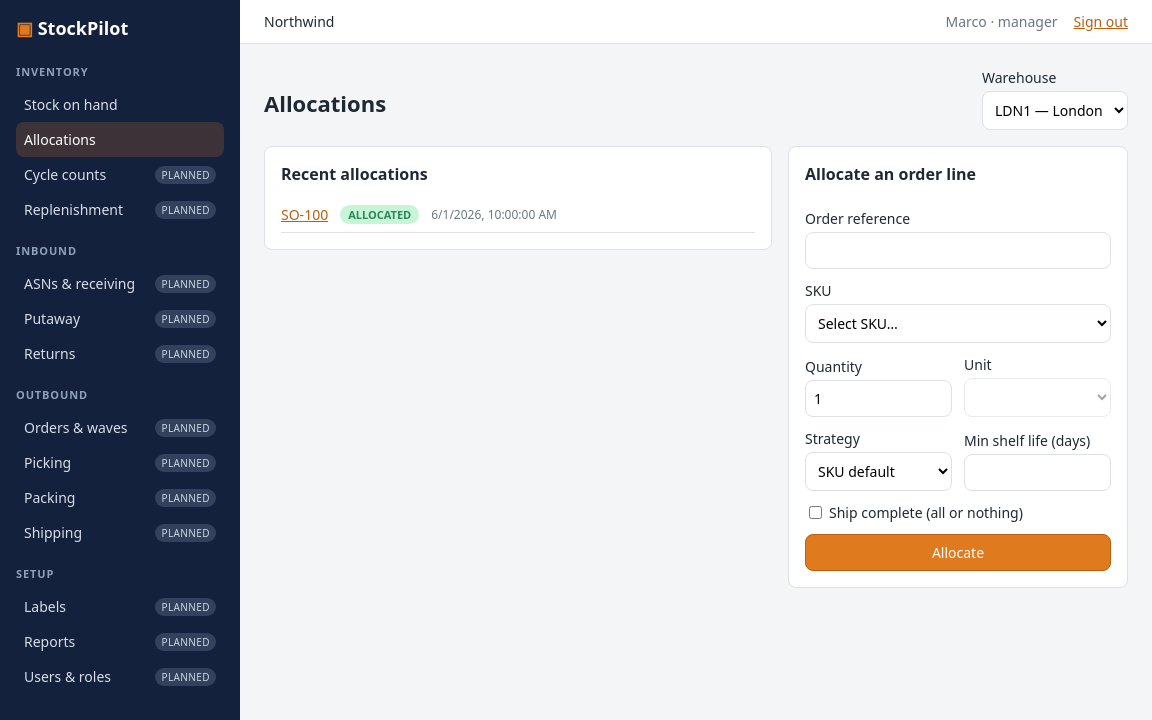
Test case: authenticated app › lists allocations, shows picks and releases
Click the button "SO-100" at [305, 214], box [281,205,328,224]
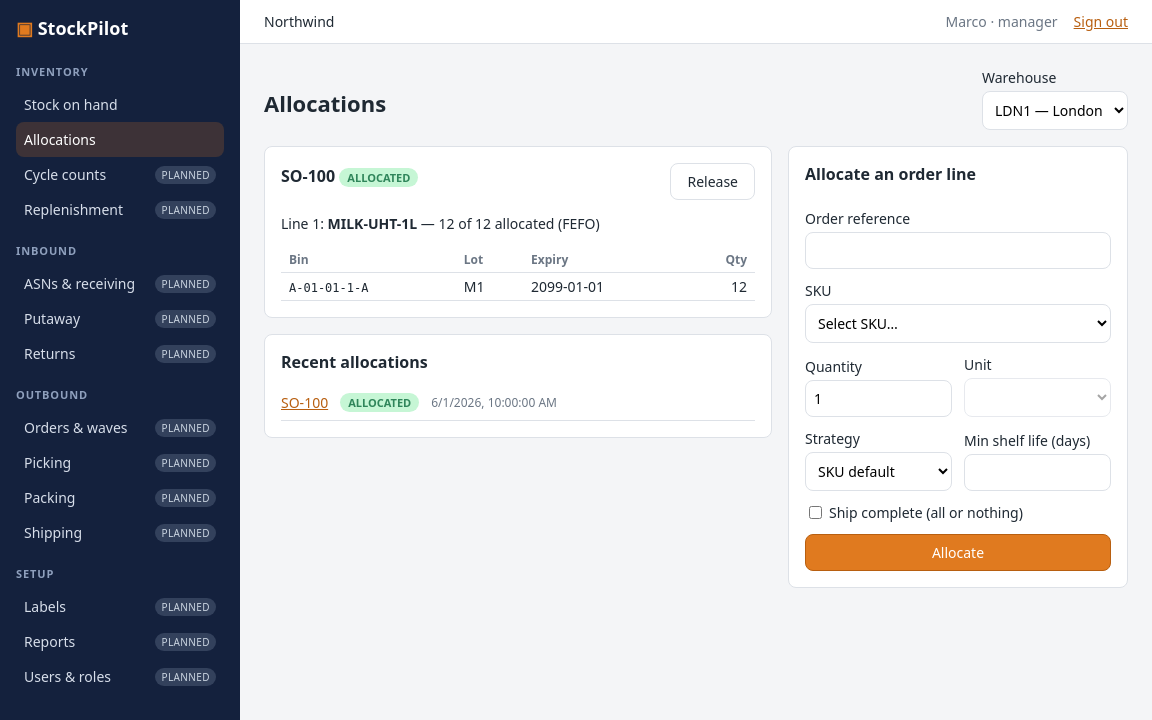
Result: the text "A-01-01-1-A" is shown at [289,281,368,295]
Click the button "Release" at [713, 182], box [670,163,755,200]
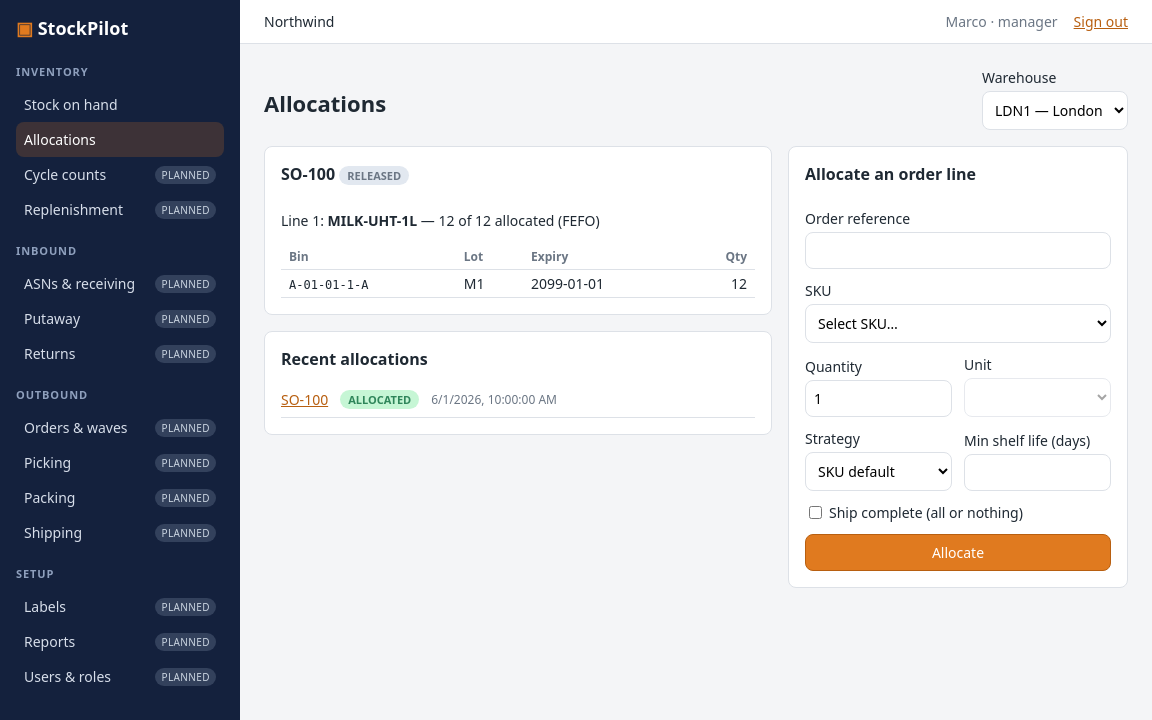
Result: the text "RELEASED" is shown at [339,166,409,185]
